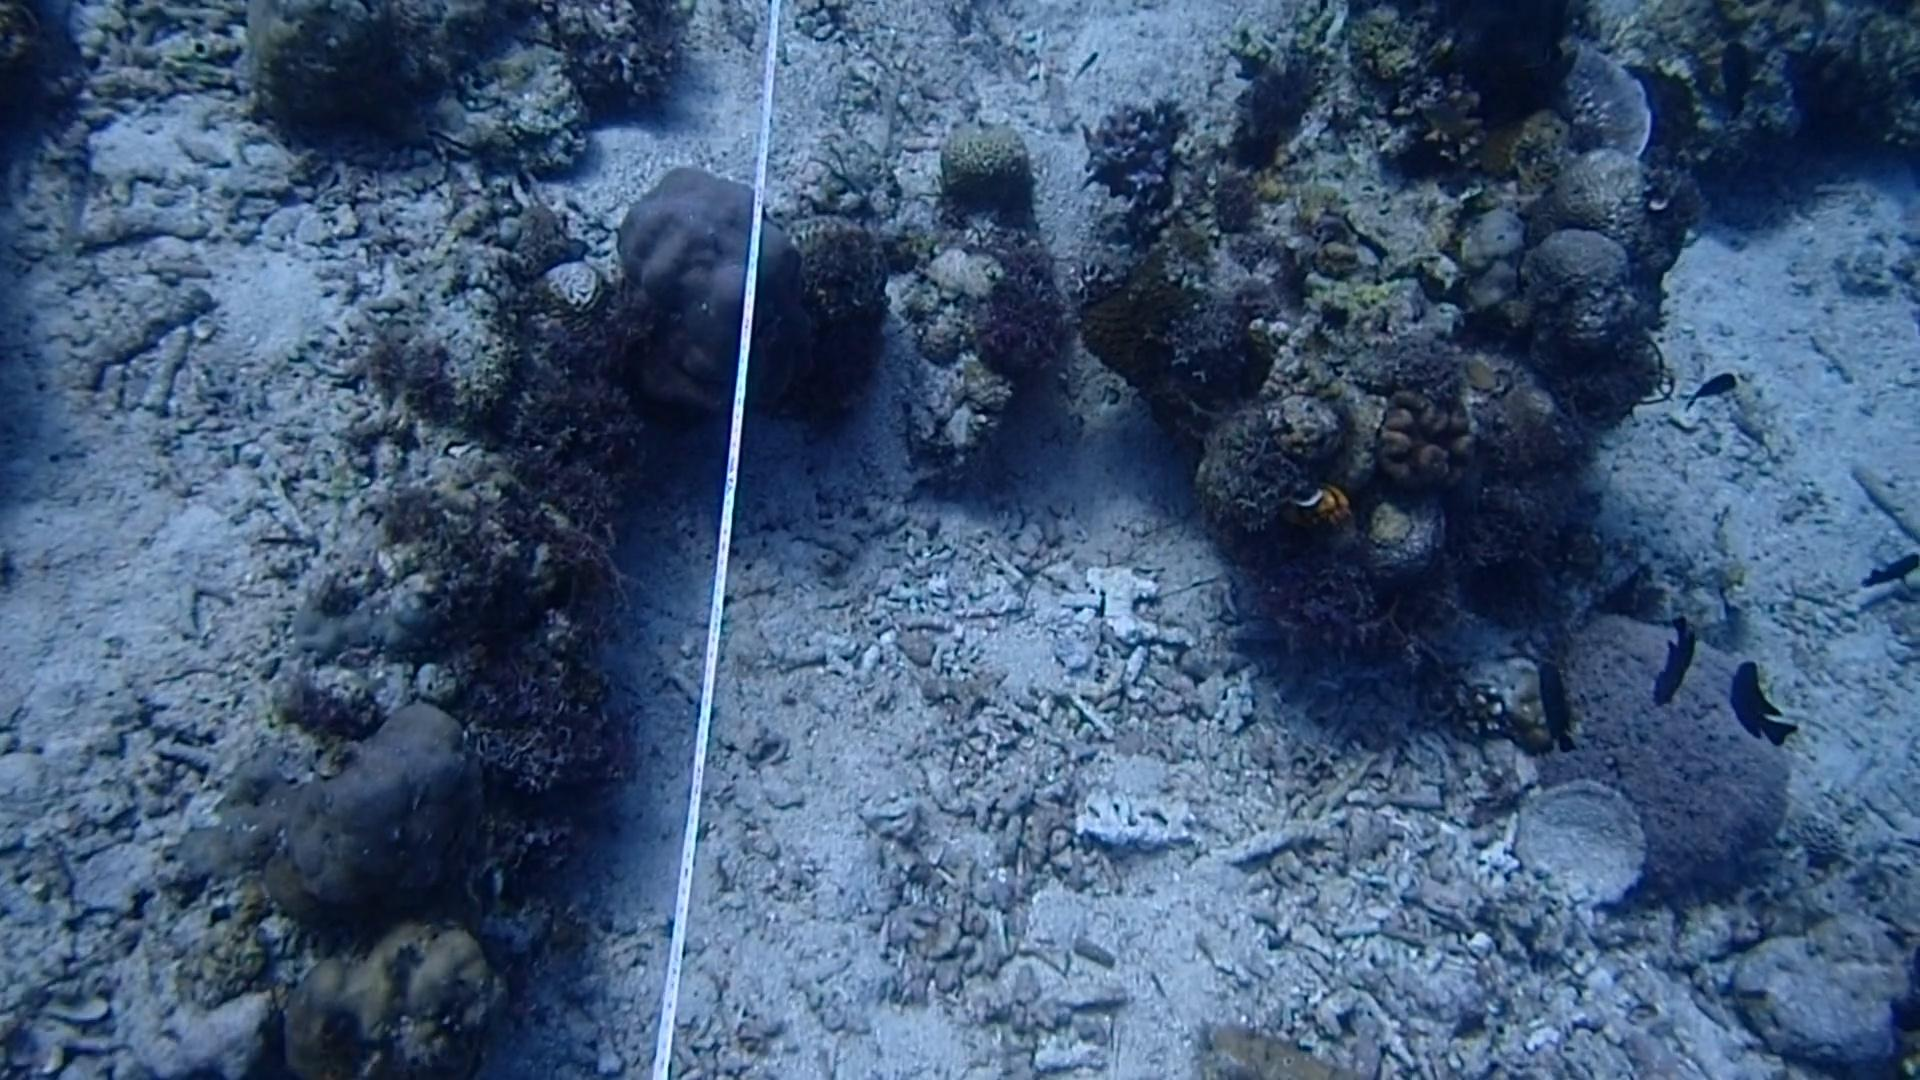Dark Fish: (1718, 644, 1804, 752), (1513, 649, 1589, 752), (1642, 603, 1697, 708), (1717, 32, 1764, 129), (1679, 359, 1746, 418), (1851, 535, 1913, 593)
Light Fish w Back Stripes: (44, 113, 100, 255)
